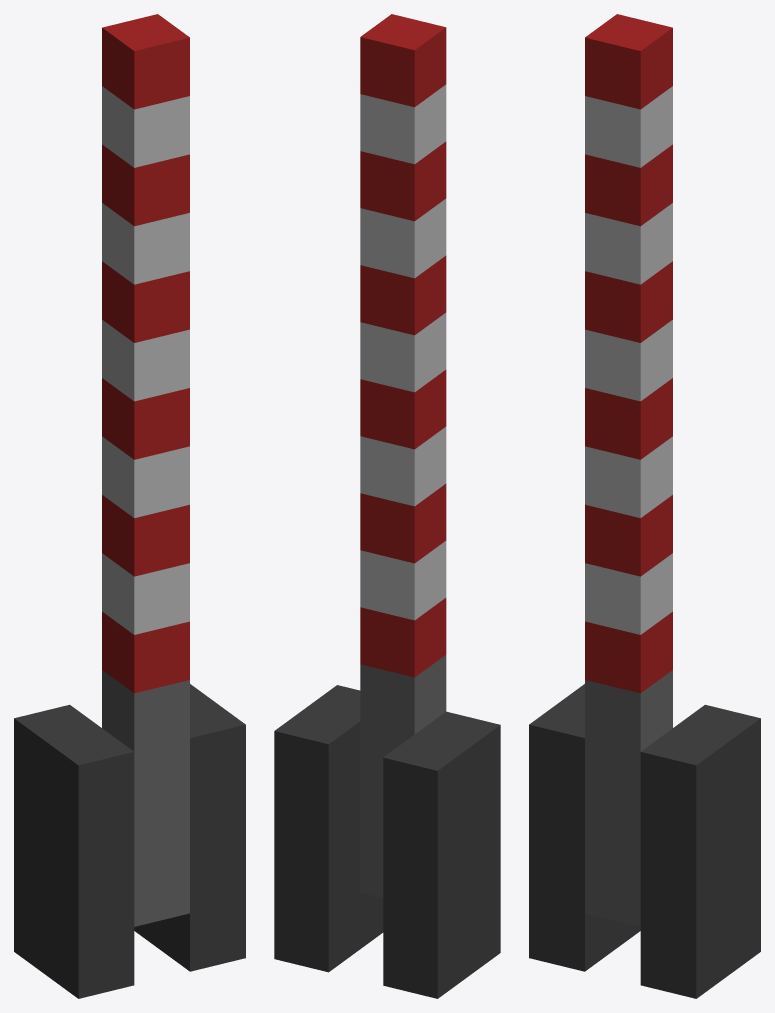
The model's file is track-equip-barrier.gltf.
The picture shows the model from 3 angles, left to right: view 1: azimuth 30°, elevation 25°; view 2: azimuth 150°, elevation 25°; view 3: azimuth 330°, elevation 25°; orthographic projection. The views are drawn at different scales.
Parts seen in each view (by area): view 1: track-equip-barrier-bar, track-equip-barrier-bracket; view 2: track-equip-barrier-bar, track-equip-barrier-bracket; view 3: track-equip-barrier-bar, track-equip-barrier-bracket.
Part boxes in pixels (<box>): track-equip-barrier-bar: <box>102,14,189,926</box>; track-equip-barrier-bracket: <box>14,684,245,998</box>; track-equip-barrier-bar: <box>360,14,446,897</box>; track-equip-barrier-bracket: <box>274,685,500,998</box>; track-equip-barrier-bar: <box>585,14,672,926</box>; track-equip-barrier-bracket: <box>529,684,760,998</box>.
Bounding box in the file's own units: 0.3 × 1.6 × 0.2.
2 materials, 2 textured.
